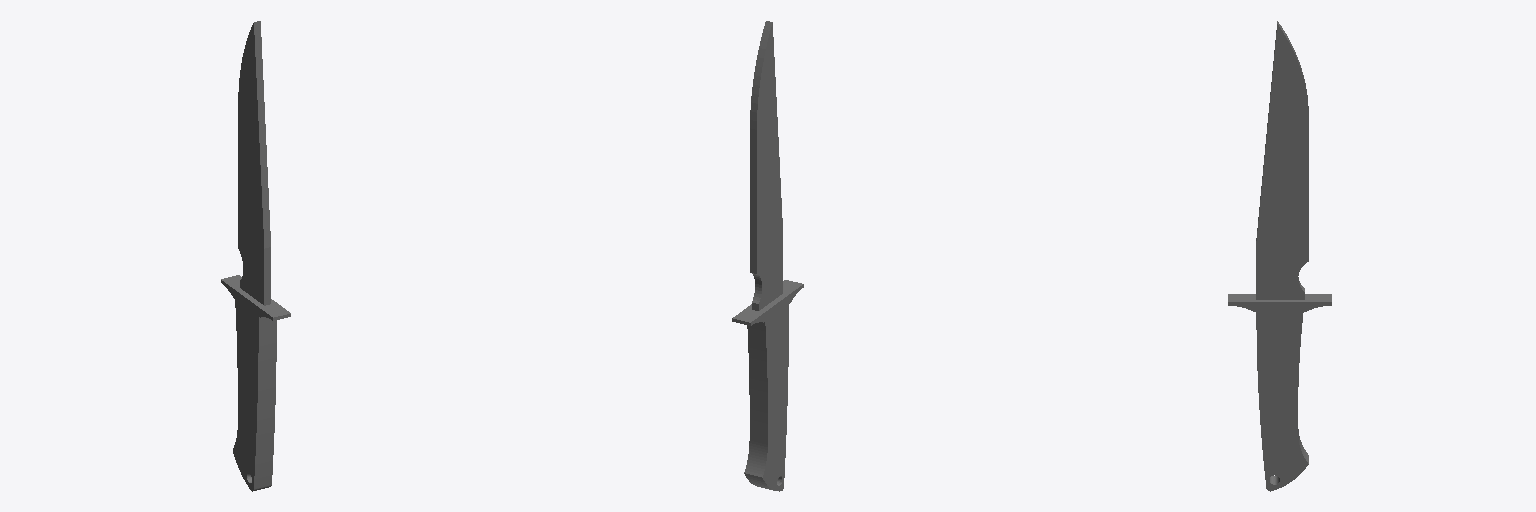
The robot description file, URDF, robot "object":
<?xml version="1.0"?>
<robot name="object">
  <link name="object">
    <visual>
      <origin xyz="0 0 0"/>
      <geometry>
        <mesh
          filename="../../mesh/oakink_virtual/knife_s251.stl" />
      </geometry>
      <material name="mat">
        <color rgba="0.5 0.5 0.5 1"/>
      </material>
    </visual>

    <collision>
      <origin xyz="0 0 0"/>
      <geometry>
        <mesh
          filename="../../mesh/oakink_virtual/knife_s251.stl" />
      </geometry>
    </collision>
  </link>
</robot>

--- What the picture shows (computed from the rendered views, not written in the file) ---
The picture shows the robot from 3 angles, left to right: view 1: azimuth 30°, elevation 25°; view 2: azimuth 150°, elevation 25°; view 3: azimuth 270°, elevation 25°; orthographic projection.
Model object with 1 links and 0 joints (none), rooted at object, posed all joints at 0.
Links seen in each view (by area): view 1: object; view 2: object; view 3: object.
Link boxes in pixels (box(x1,y1,x2,y2)): object: box(221, 21, 290, 491); object: box(732, 21, 803, 491); object: box(1228, 21, 1331, 491).
Size in the robot's own frame: 0.0085 by 0.0426 by 0.2081 metres.
Meshes: 1 distinct files referenced, 1 mesh visuals loaded (1 binary STL).